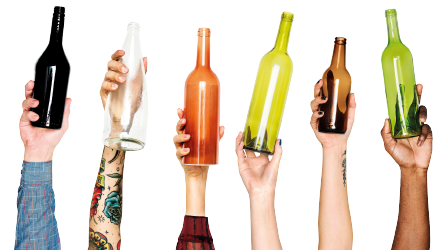glass_bottle: (240, 9, 298, 158), (175, 24, 227, 168), (378, 6, 429, 145), (101, 22, 154, 152), (29, 4, 74, 131), (309, 34, 359, 136)
